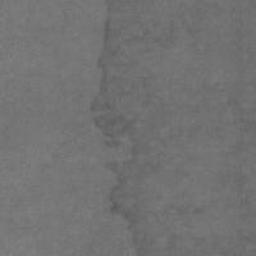Water spot: (90, 1, 256, 256)
